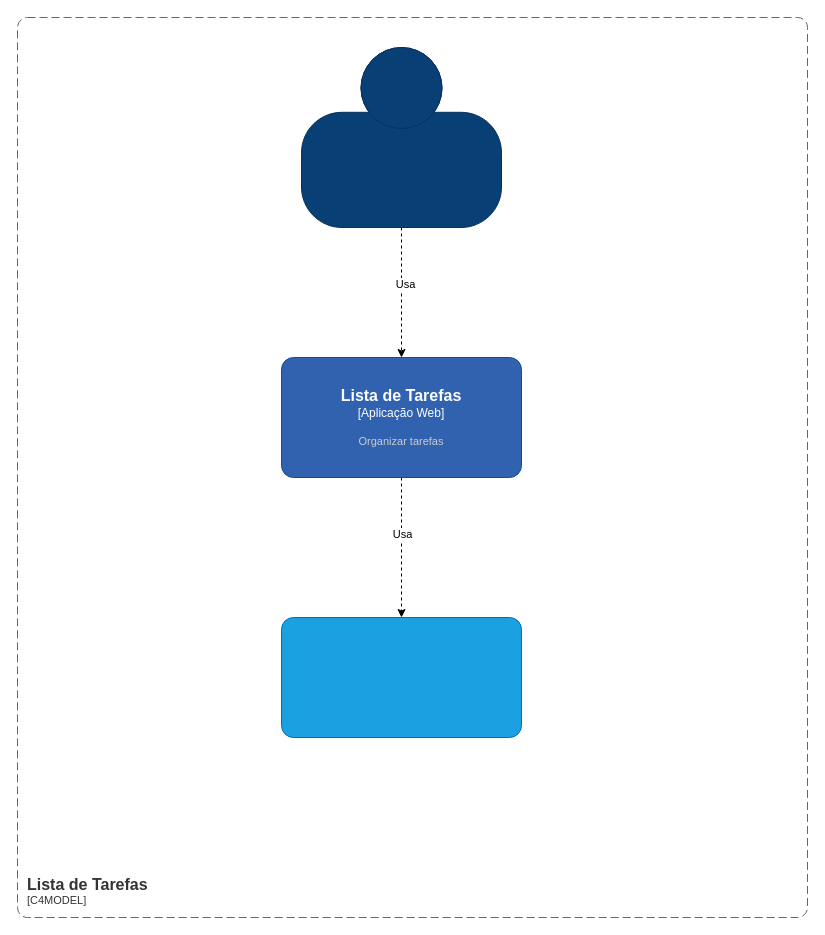
This 825x935 diagram has some shape labels left out. Each missing label, with the centre of its shape:
"Back-end [API] Administrar as regras de negicio controlando todo o sistema" belongs at (x=401, y=677).
"Usuario Final [Usuário] Utilizando para gerencias de tarefas" belongs at (x=401, y=137).
